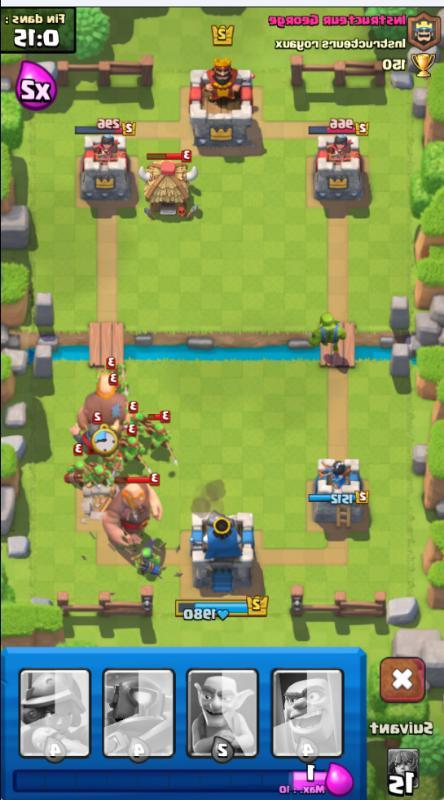enemy_giant: (97, 473, 166, 549)
enemy_goblin_hut: (137, 148, 201, 221)
enemy_spear_goblins: (140, 410, 178, 459), (114, 428, 148, 471), (63, 445, 94, 487), (83, 450, 113, 491), (97, 356, 128, 386)
player_giant: (72, 373, 135, 439)
player_spear_goblins: (131, 541, 167, 578)
